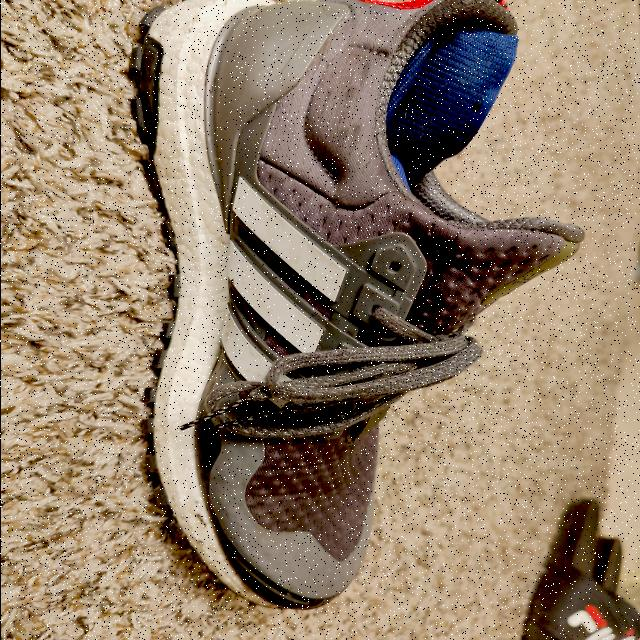black shoes: (135, 0, 578, 612)
